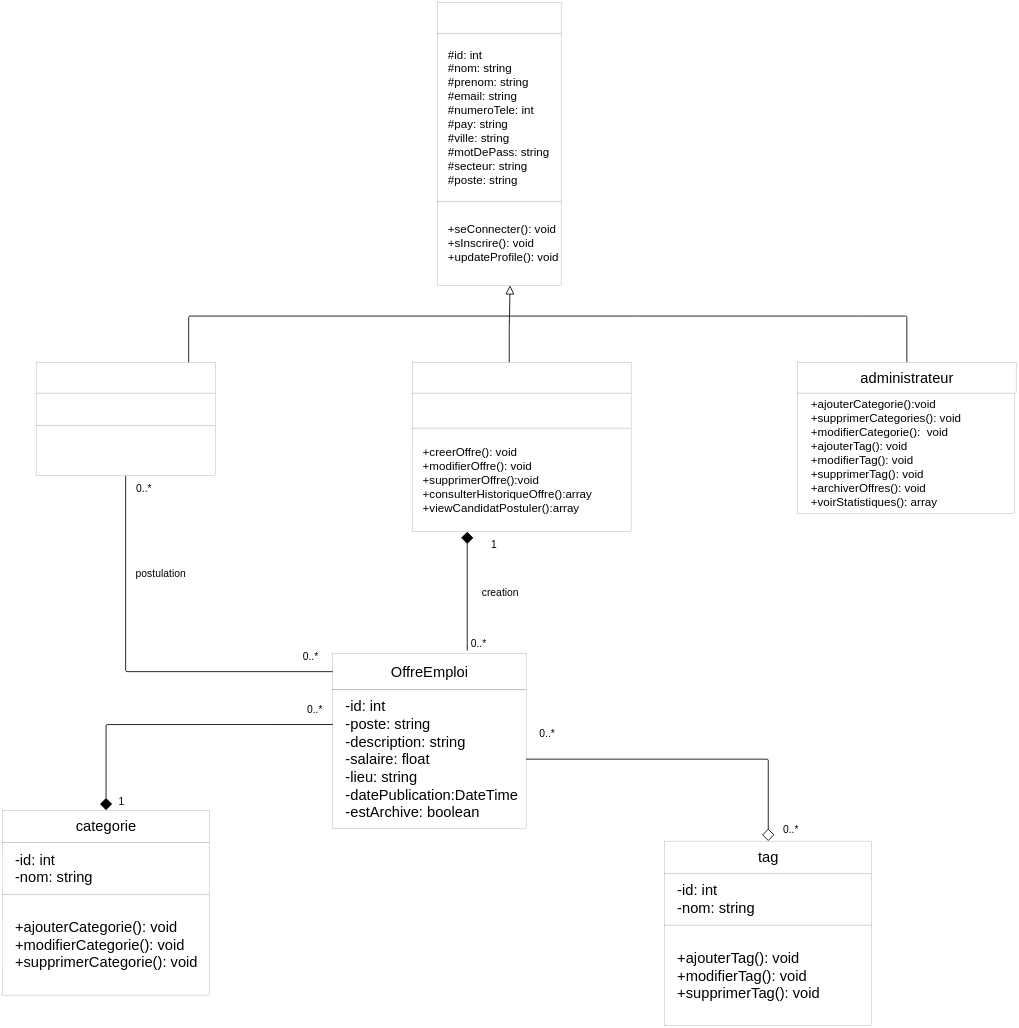
Some shapes in this 1019 by 1028 pixel diagram are drawn without their labels. The shapes that lost their labels are listed below. From the top down, each one's centre as x and y in pixels, then its label:
At pixel 499 17: "Utilisateur".
At pixel 125 377: "candidat".
At pixel 522 377: "recruteur".
At pixel 125 409: "-CV: string".
At pixel 522 410: "-nomEnteprise: string".
At pixel 125 450: "+postulerOffre():void +consultationHistorique:array +rechercherOffres():array".
